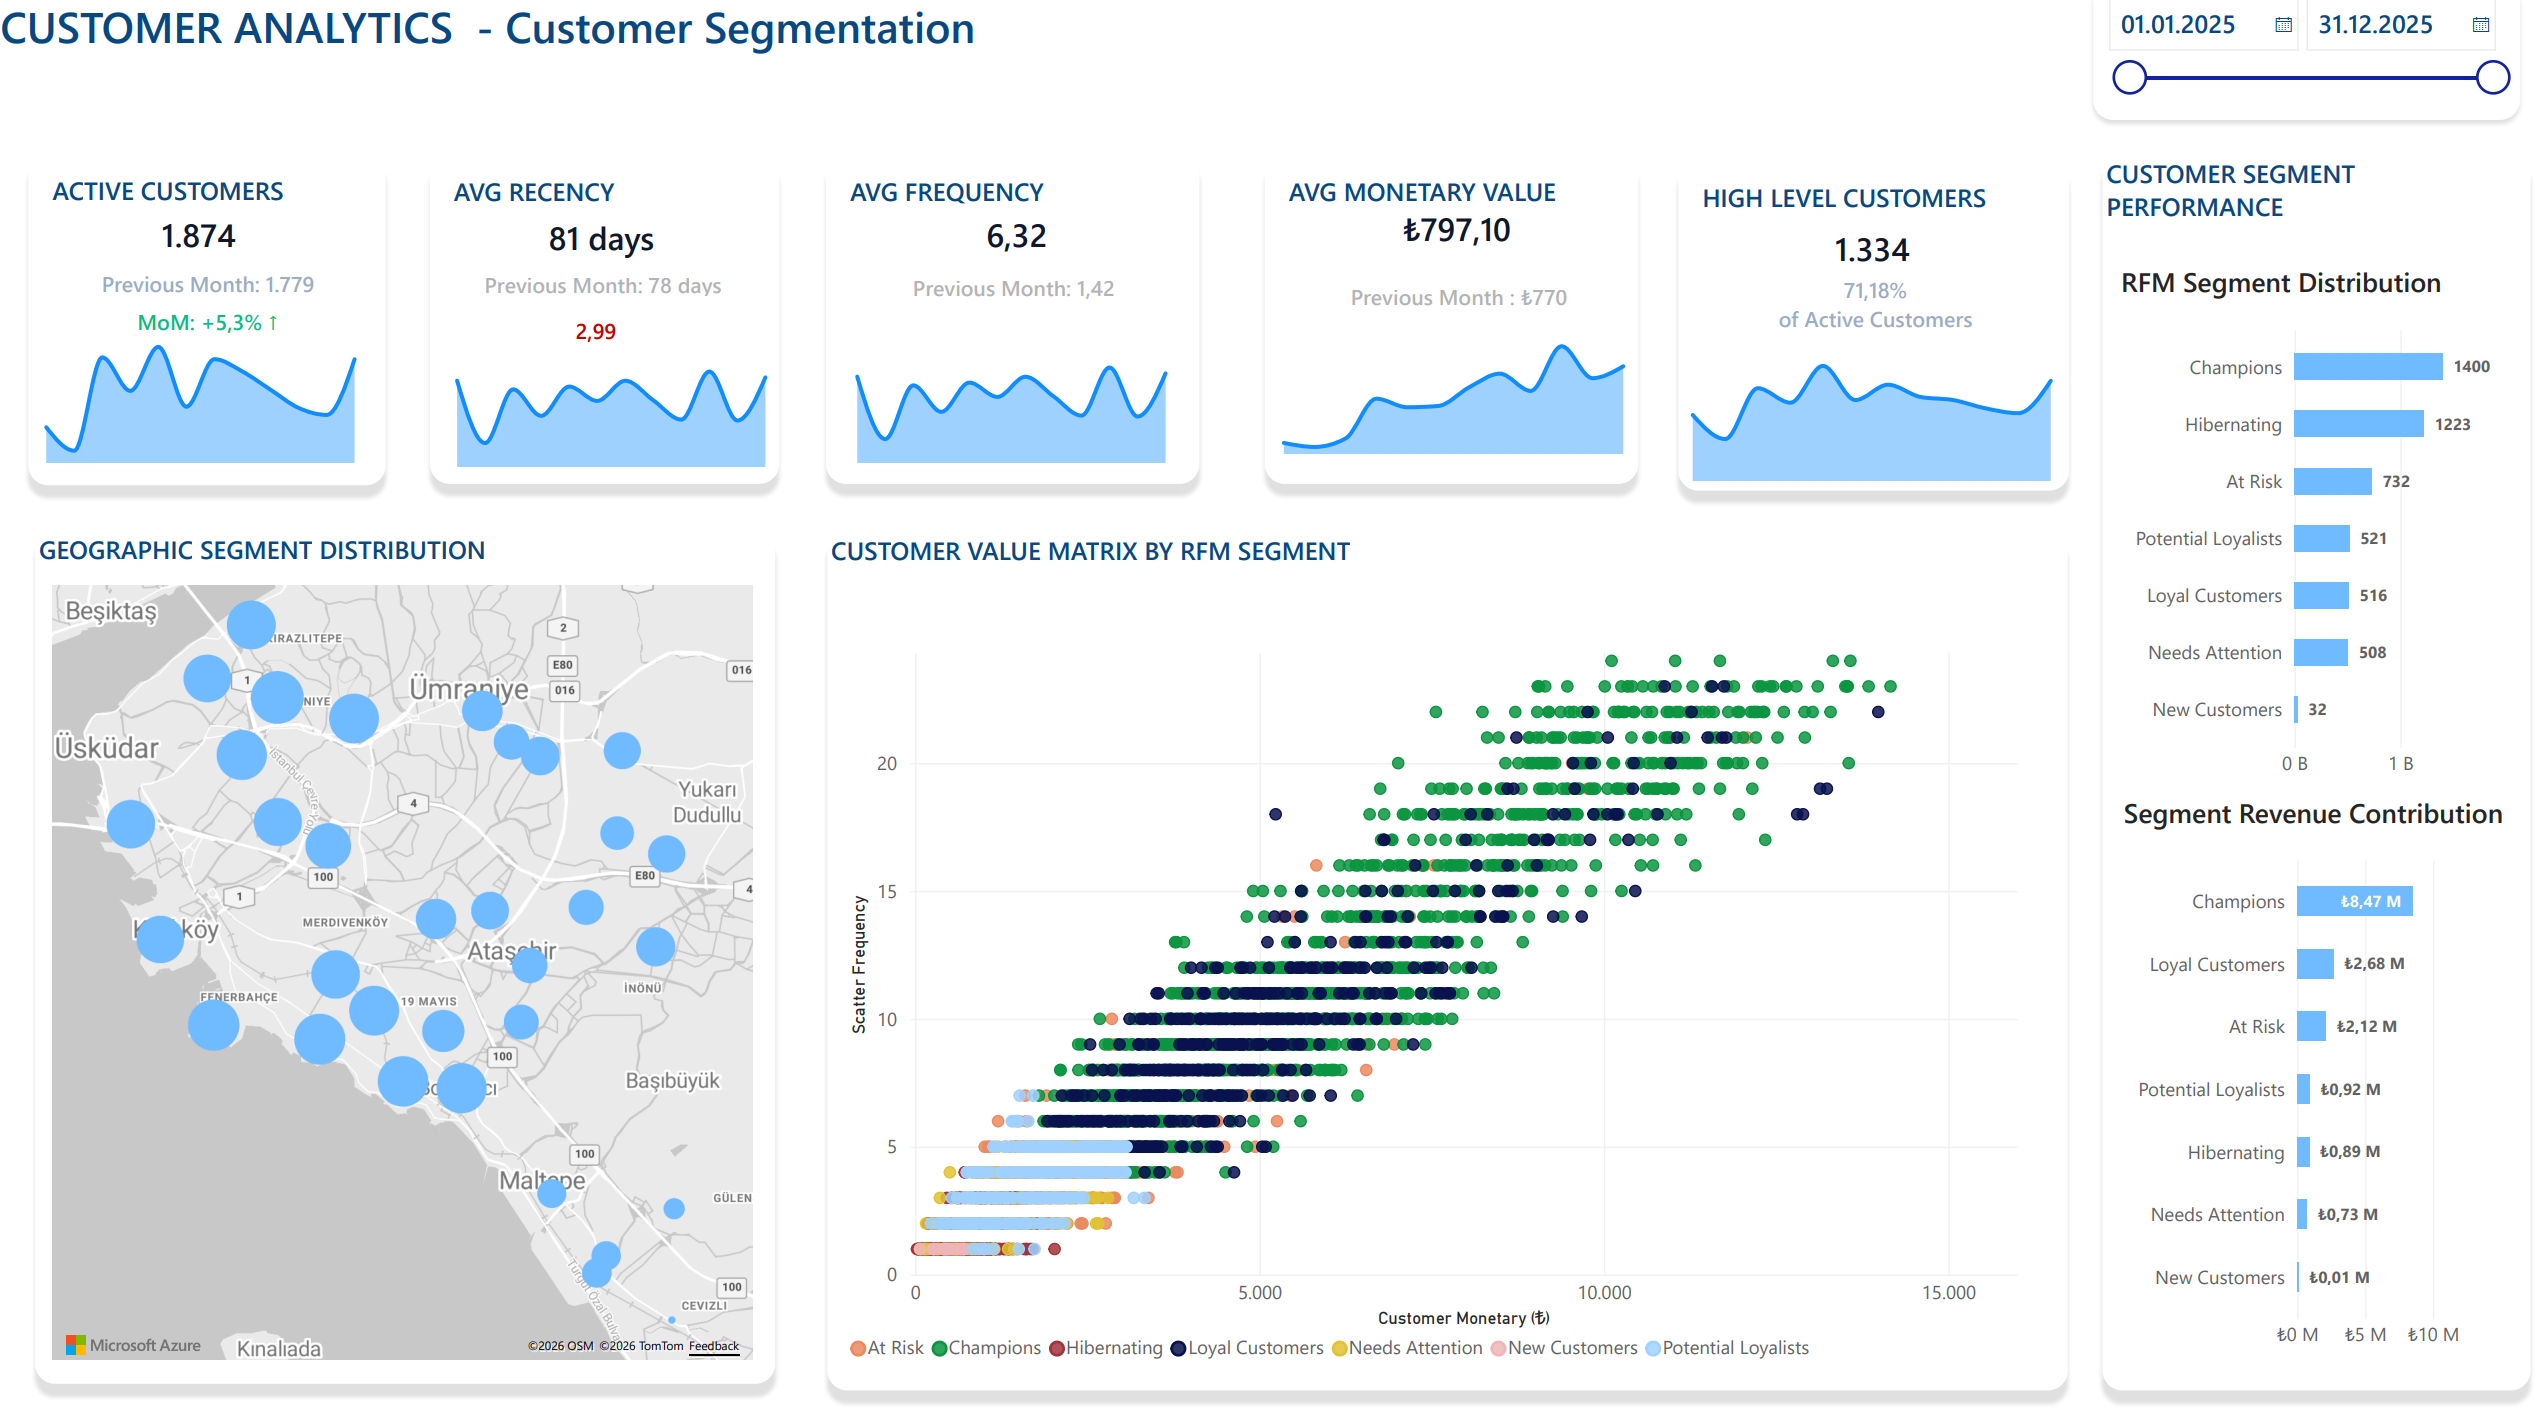

The dashboard page shown, as its layout file describes it:
{"tool":"powerbi","page":{"name":"Customer Segmentation","canvas":[1920,1080],"ordinal":3},"visuals":[{"type":"card","title":"ACTIVE CUSTOMERS","fields":{"Values":["Date.sum_renevue"]},"box":[31.8,126.6,268.3,250],"z":0,"group":"g1"},{"type":"card","title":"HIGH LEVEL CUSTOMERS","fields":{"Values":["Date.sum_renevue"]},"box":[1267.8,131.5,293.4,248.6],"z":0,"group":"g5"},{"type":"textbox","box":[36,409.4,554.9,641.9],"z":0,"group":"g6"},{"type":"textbox","box":[630,410,930,645.6],"z":0,"group":"g8"},{"type":"scatterChart","fields":{"Category":["public customers.customer_id"],"Series":["RFM Segments.Segment"],"X":["RFM Segments.Scatter Monetary"],"Y":["RFM Segments.Scatter Frequency"]},"box":[630.6,481,928.1,573.6],"z":500,"group":"g8"},{"type":"textbox","box":[1586.7,127.1,321.5,928.6],"z":1000,"group":"g7"},{"type":"card","title":"AVG MONETARY VALUE","fields":{"Values":["Date.sum_renevue"]},"box":[957.8,128.2,279.6,248.2],"z":1000,"group":"g4"},{"type":"card","title":"AVG RECENCY","fields":{"Values":["Date.sum_renevue"]},"box":[331.8,128.3,261.6,248.3],"z":1000,"group":"g3"},{"type":"card","title":"AVG FREQUENCY","fields":{"Values":["Date.sum_renevue"]},"box":[629.7,128.3,279.6,248.2],"z":1000,"group":"g2"},{"type":"stackedAreaChart","fields":{"Category":["Date.Date.Varyasyon.Tarih Hiyerarşisi.Ay"],"Y":["Query.total active costumer"]},"box":[20,248,280,128],"z":1000,"group":"g1"},{"type":"card","title":"TARGET","fields":{"Values":["public customers.Recency MoM Change"]},"box":[321.1,232.7,271.3,64.8],"z":1500,"group":"g3"},{"type":"stackedAreaChart","fields":{"Category":["Date.Date.Varyasyon.Tarih Hiyerarşisi.Ay"],"Y":["public customers.Avg Recency"]},"box":[628.3,248.3,280,128],"z":1500,"group":"g2"},{"type":"card","title":"OVERALL PERFORMANCE","fields":{"Values":["Query-customer.Latest Month Active Customers"]},"box":[19.5,123.8,279.8,134.8],"z":2000,"group":"g1"},{"type":"group","id":"g1","title":"Active Costumer","box":[19.5,123.8,282.4,252.8],"z":2000},{"type":"card","title":"OVERALL PERFORMANCE","fields":{"Values":["public customers.High Value Customers"]},"box":[1261.6,130,303.3,143.5],"z":2000,"group":"g5"},{"type":"card","title":"OVERALL PERFORMANCE","fields":{"Values":["public customers.Avg RFM Frequency"]},"box":[628.7,131.1,288.3,120],"z":2000,"group":"g2"},{"type":"card","title":"OVERALL PERFORMANCE","fields":{"Values":["public customers.Latest Month Avg Monetary Value"]},"box":[961.5,131.2,280,111.7],"z":2000,"group":"g4"},{"type":"card","title":"OVERALL PERFORMANCE","fields":{"Values":["public customers.avg recency Label"]},"box":[332.2,131.6,257.8,124.4],"z":2000,"group":"g3"},{"type":"clusteredBarChart","title":"Segment Revenue Contribution","fields":{"Category":["RFM Segments.Segment"],"Y":["RFM Segments.Segment Revenue"]},"box":[1586.5,594.1,321.5,450.6],"z":2000,"group":"g7"},{"type":"stackedAreaChart","fields":{"Category":["Date.Date.Varyasyon.Tarih Hiyerarşisi.Ay"],"Y":["public customers.Avg Monetary Value"]},"box":[946.7,231.2,305,138.3],"z":2250,"group":"g4"},{"type":"card","title":"Previous recency","fields":{"Values":["public customers.previous month avg recency Label"]},"box":[332.1,204.4,260,43.3],"z":2500,"group":"g3"},{"type":"card","title":"Previous recency","fields":{"Values":["public customers.previous month svg frequency Label"]},"box":[630,206.6,280,43.3],"z":2500,"group":"g2"},{"type":"card","title":"Previous recency","fields":{"Values":["public customers.Previous Monetary Label"]},"box":[961.5,212.8,283.3,43.3],"z":2500,"group":"g4"},{"type":"group","id":"g2","title":"AVG FREQUENCY","box":[628.3,128.3,288.7,248.2],"z":3000},{"type":"clusteredBarChart","title":"RFM Segment Distribution","fields":{"Category":["RFM Segments.Segment"],"Y":["RFM Segments.Customers by Segment"]},"box":[1584.5,195.8,319,420.2],"z":3000,"group":"g7"},{"type":"stackedAreaChart","fields":{"Category":["Date.Date.Varyasyon.Tarih Hiyerarşisi.Ay"],"Y":["public customers.Avg Recency"]},"box":[328.3,251.6,280,128],"z":3000,"group":"g3"},{"type":"slicer","title":"Date","fields":{"Values":["Date.Date"]},"box":[1579.4,0,320,103.3],"z":4000},{"type":"card","title":"TARGET","fields":{"Values":["public customers.High Value customers % Label"]},"box":[1265.7,194.4,300,95.1],"z":4000,"group":"g5"},{"type":"card","title":"TARGET","fields":{"Values":["Query.Costumer MoM Label"]},"box":[30.6,224.8,271.3,64.8],"z":4000,"group":"g1"},{"type":"stackedAreaChart","fields":{"Category":["Date.Date.Varyasyon.Tarih Hiyerarşisi.Ay"],"Y":["public customers.High Value Customers"]},"box":[1252.9,251.5,320,138.5],"z":4500,"group":"g5"},{"type":"textbox","box":[10,10,802,54],"z":5000},{"type":"card","title":"TARGET","fields":{"Values":["Query-customer.previous month neactivew customer Label"]},"box":[31.4,183.5,269.6,90.4],"z":5000,"group":"g1"},{"type":"group","id":"g3","title":"AVG RECENCY","box":[321.1,128.3,287.2,251.3],"z":6000},{"type":"group","id":"g4","title":"AVG MoNETARY","box":[946.7,128.2,305,248.2],"z":7000},{"type":"group","id":"g5","title":"High Level Customers","box":[1252.9,130,320,260],"z":8000},{"type":"group","id":"g6","title":"Sales Platform","box":[33,409.4,558,641.9],"z":9000},{"type":"group","id":"g7","title":"Category Performance","box":[1584.5,127.1,323.7,928.6],"z":10000},{"type":"azureMap","title":"Geographic Order Distribution","fields":{"Size":["public customers.Map Customers by Segment"],"X":["public customers.longitude"],"Y":["public customers.latitude"]},"box":[33,438,557,611],"z":11002,"group":"g6"},{"type":"group","id":"g8","title":"Sales Platform","box":[630,410,930,645.6],"z":11500}]}

Visuals, with their boxes in screenshot pixels (x1, y1, x2, y2), scaled from the page's 1920x1080 canvas onto the 2538x1414 screenshot:
"ACTIVE CUSTOMERS" card: BBox(42, 166, 397, 493)
"HIGH LEVEL CUSTOMERS" card: BBox(1676, 172, 2064, 498)
textbox: BBox(48, 536, 781, 1376)
textbox: BBox(833, 537, 2062, 1382)
scatterChart - public customers.customer_id x RFM Segments.Segment: BBox(834, 630, 2060, 1381)
textbox: BBox(2097, 166, 2522, 1382)
"AVG MONETARY VALUE" card: BBox(1266, 168, 1636, 493)
"AVG RECENCY" card: BBox(439, 168, 784, 493)
"AVG FREQUENCY" card: BBox(832, 168, 1202, 493)
stackedAreaChart - Date.Date.Varyasyon.Tarih Hiyerarşisi.Ay x Query.total active costumer: BBox(26, 325, 397, 492)
"TARGET" card: BBox(424, 305, 783, 390)
stackedAreaChart - Date.Date.Varyasyon.Tarih Hiyerarşisi.Ay x public customers.Avg Recency: BBox(831, 325, 1201, 493)
"OVERALL PERFORMANCE" card: BBox(26, 162, 396, 339)
"Active Costumer" group: BBox(26, 162, 399, 493)
"OVERALL PERFORMANCE" card: BBox(1668, 170, 2069, 358)
"OVERALL PERFORMANCE" card: BBox(831, 172, 1212, 329)
"OVERALL PERFORMANCE" card: BBox(1271, 172, 1641, 318)
"OVERALL PERFORMANCE" card: BBox(439, 172, 780, 335)
"Segment Revenue Contribution" clusteredBarChart: BBox(2097, 778, 2522, 1368)
stackedAreaChart - Date.Date.Varyasyon.Tarih Hiyerarşisi.Ay x public customers.Avg Monetary Value: BBox(1251, 303, 1655, 484)
"Previous recency" card: BBox(439, 268, 783, 324)
"Previous recency" card: BBox(833, 270, 1203, 327)
"Previous recency" card: BBox(1271, 279, 1645, 335)
"AVG FREQUENCY" group: BBox(831, 168, 1212, 493)
"RFM Segment Distribution" clusteredBarChart: BBox(2095, 256, 2516, 807)
stackedAreaChart - Date.Date.Varyasyon.Tarih Hiyerarşisi.Ay x public customers.Avg Recency: BBox(434, 329, 804, 497)
"Date" slicer: BBox(2088, 0, 2511, 135)
"TARGET" card: BBox(1673, 255, 2070, 379)
"TARGET" card: BBox(40, 294, 399, 379)
stackedAreaChart - Date.Date.Varyasyon.Tarih Hiyerarşisi.Ay x public customers.High Value Customers: BBox(1656, 329, 2079, 511)
textbox: BBox(13, 13, 1073, 84)
"TARGET" card: BBox(42, 240, 398, 359)
"AVG RECENCY" group: BBox(424, 168, 804, 497)
"AVG MoNETARY" group: BBox(1251, 168, 1655, 493)
"High Level Customers" group: BBox(1656, 170, 2079, 511)
"Sales Platform" group: BBox(44, 536, 781, 1376)
"Category Performance" group: BBox(2095, 166, 2522, 1382)
"Geographic Order Distribution" azureMap: BBox(44, 573, 780, 1373)
"Sales Platform" group: BBox(833, 537, 2062, 1382)
